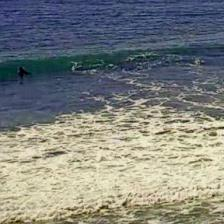surfer: (18, 67, 31, 77)
